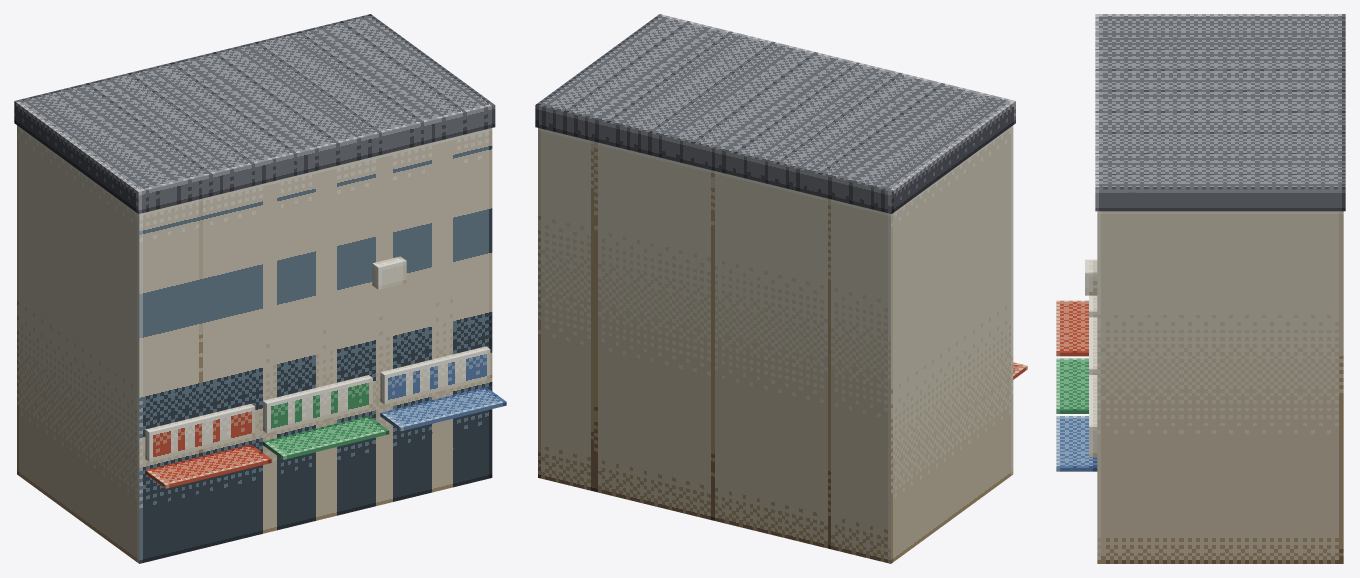
File: sky_shops.glb
3 views of the same model, side by side, from view 1: azimuth 30°, elevation 25°; view 2: azimuth 150°, elevation 25°; view 3: azimuth 270°, elevation 25° (orthographic).
Visible parts, largest first — view 1: sky_shops; view 2: sky_shops; view 3: sky_shops.
Part boxes in pixels (box(x1,y1,x2,y2)): sky_shops: box(14, 14, 506, 563); sky_shops: box(535, 14, 1027, 563); sky_shops: box(1056, 14, 1345, 563).
Bounding box in the file's own units: 10.1 × 10.1 × 7.05.
Materials: 1 (1 with a texture image).
